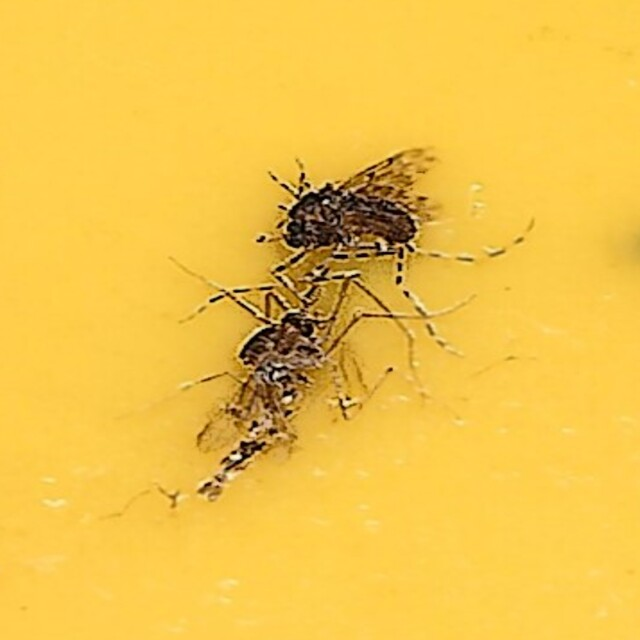Nematocera: (179, 287, 371, 504), (253, 136, 461, 276)
